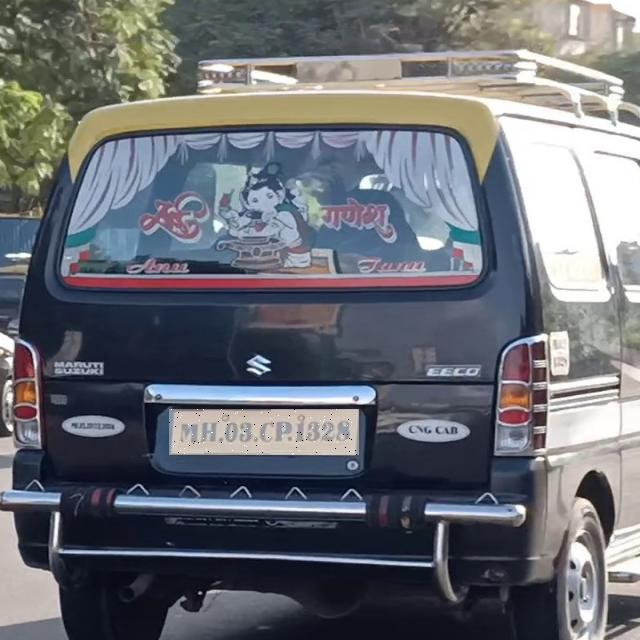Plate: (170, 410, 360, 456)
